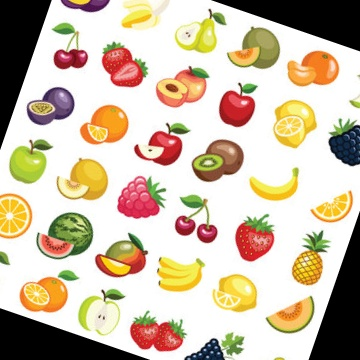Pineapple: (293, 229, 330, 285)
